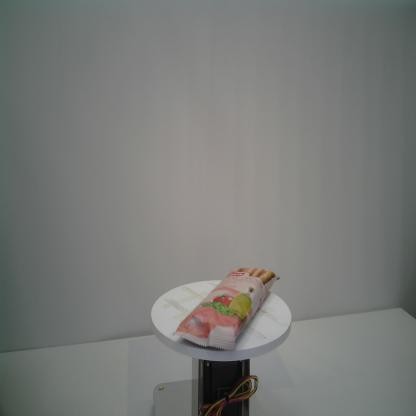Dessert: (170, 264, 283, 354)
